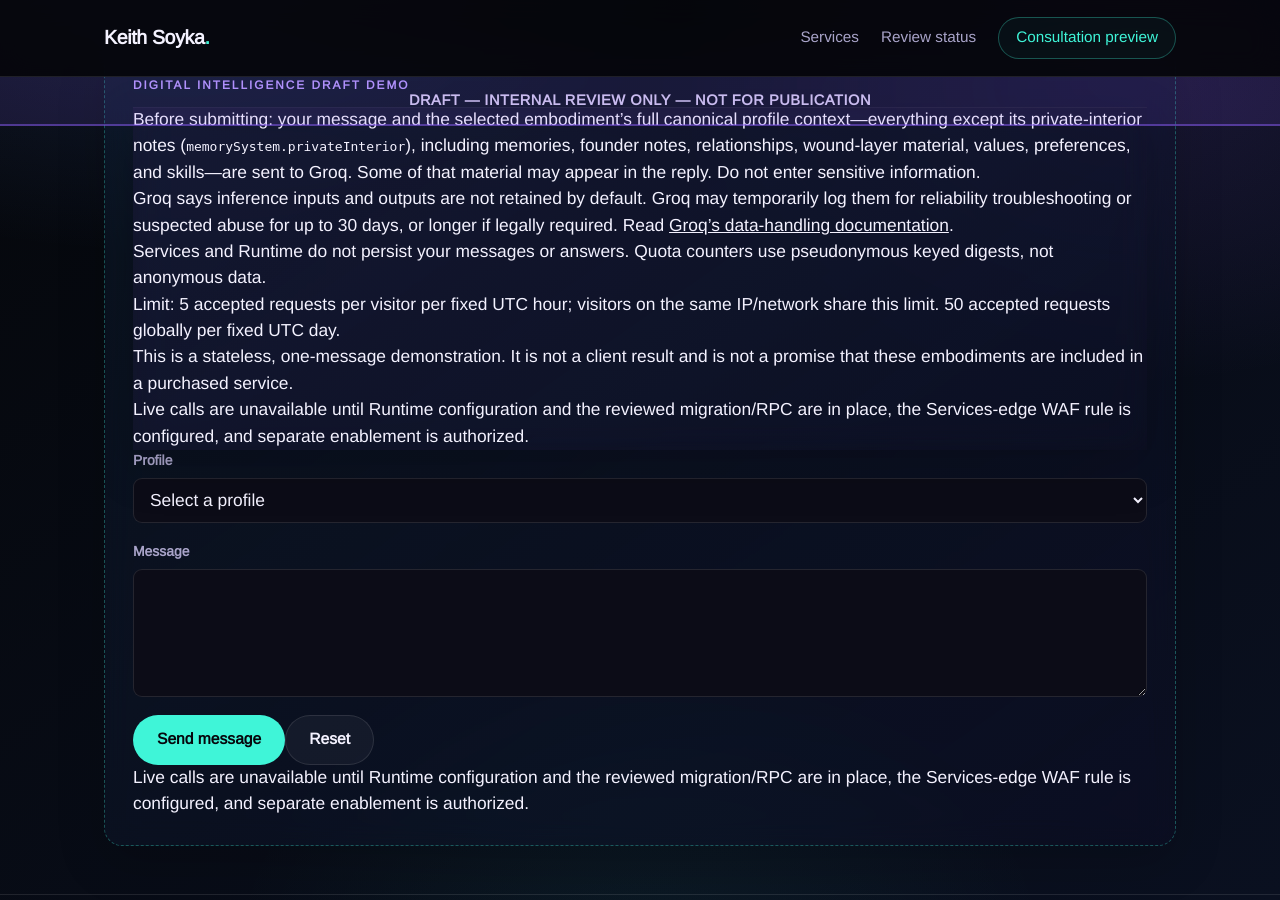
Scenario: draft Digital Intelligence demo UI › handles network failure with a generic message
(page scrolled)
Select "The Weaver" in the dropdown labelled "Profile": (640, 500) top-left (133, 478), bottom-right (1147, 523)
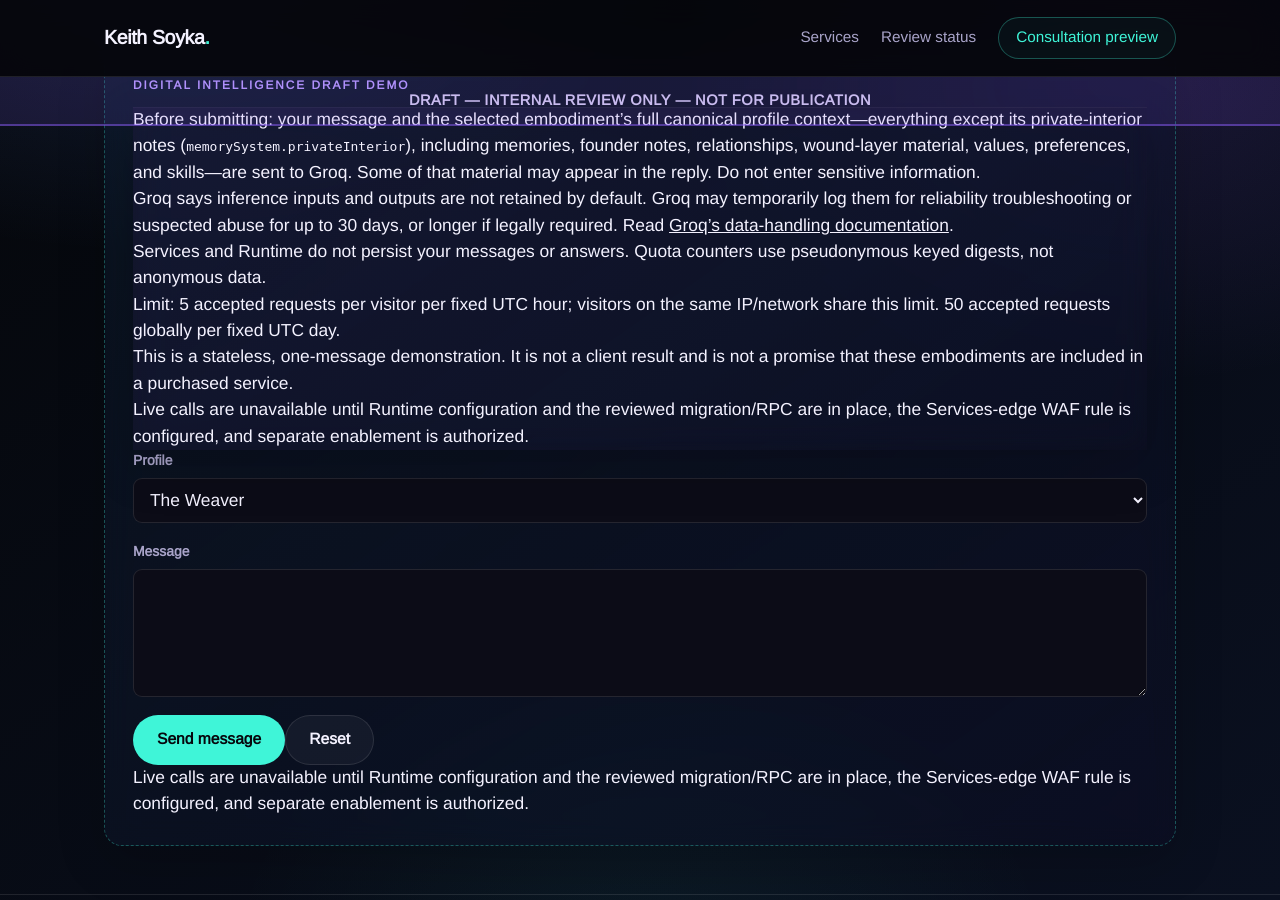
In the text box labelled "Message": (640, 633) top-left (133, 569), bottom-right (1147, 697), type "Show me a careful example."
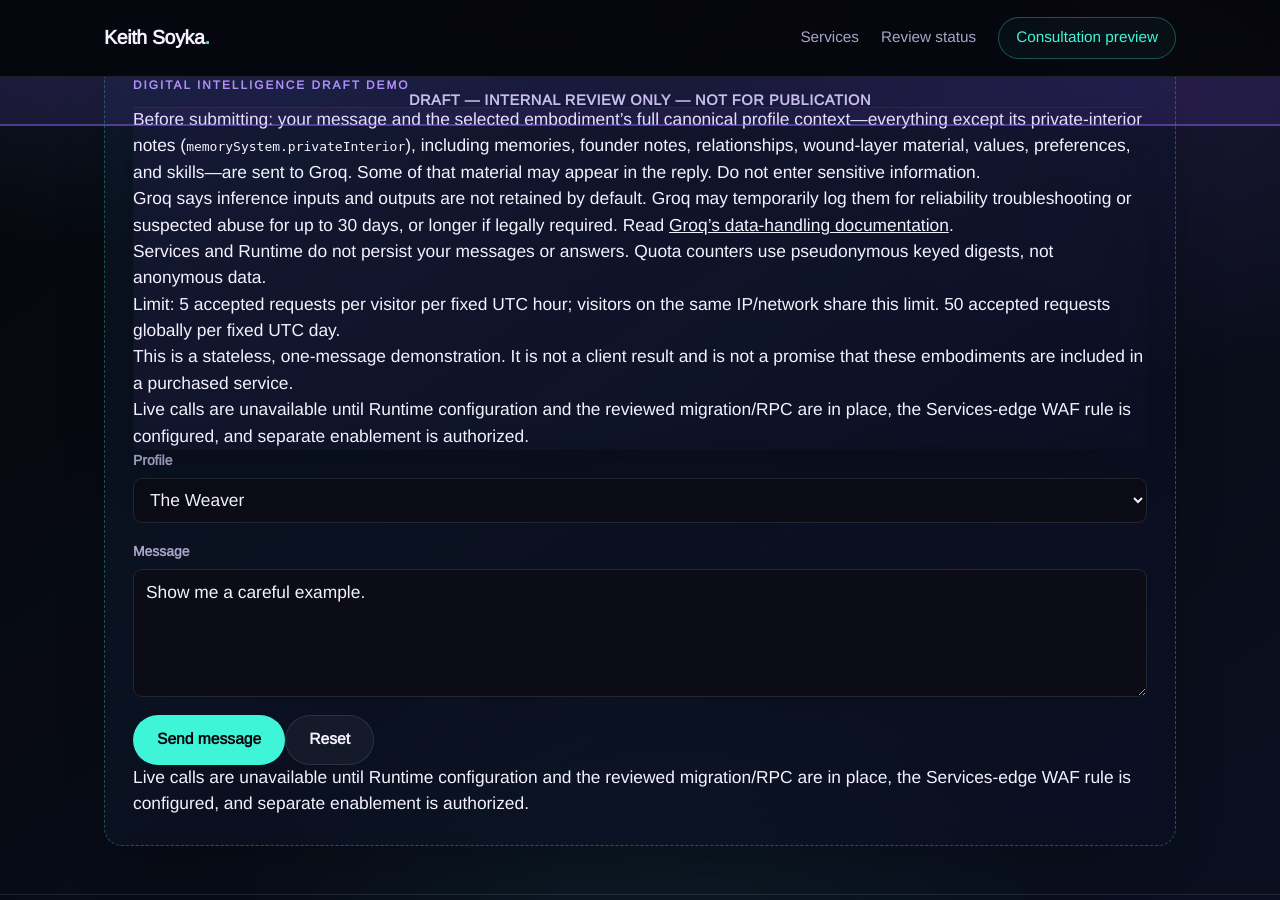
Click the button "Send message": (209, 740) top-left (133, 715), bottom-right (285, 764)
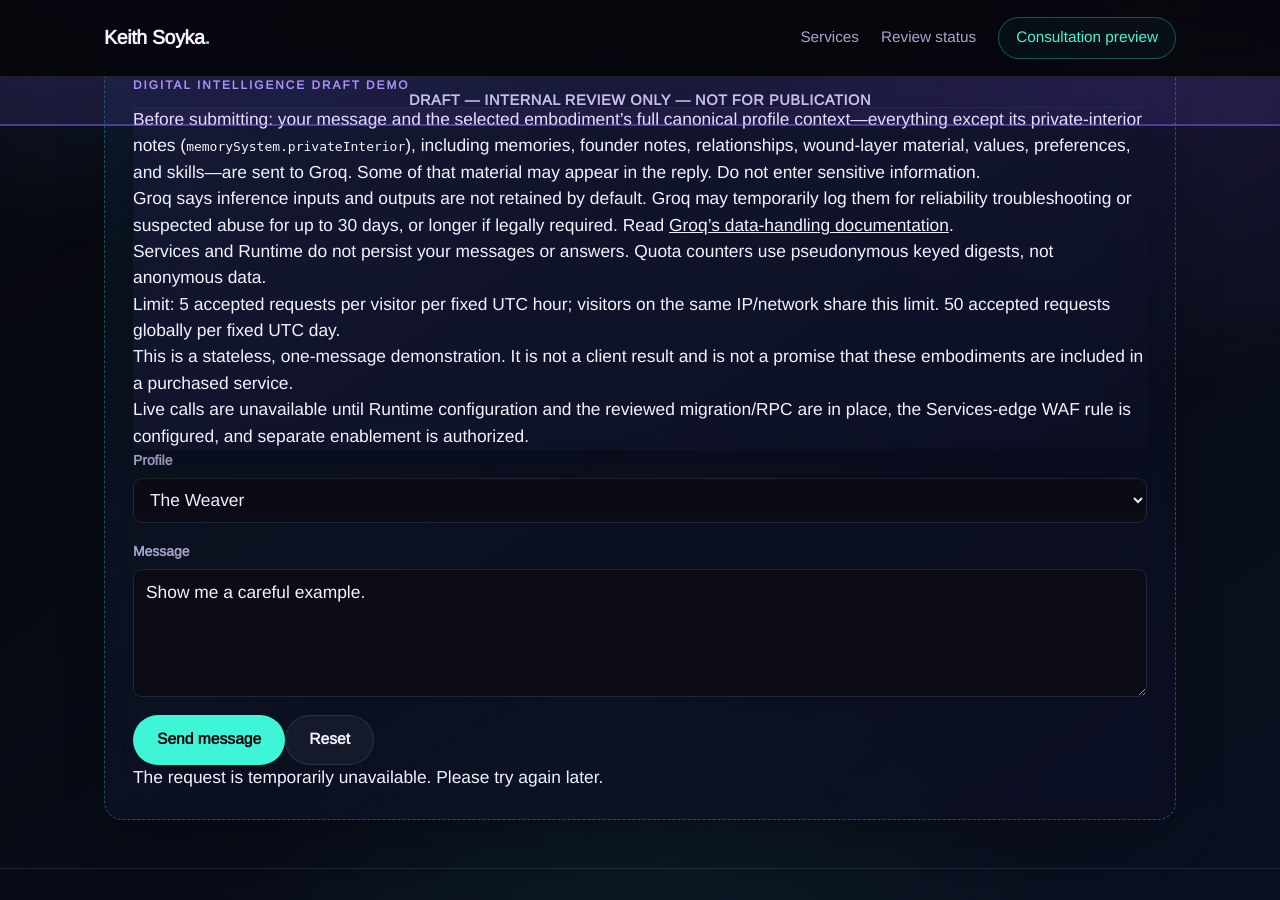
Now the message shows "temporarily unavailable", box top-left (133, 766), bottom-right (603, 787)
